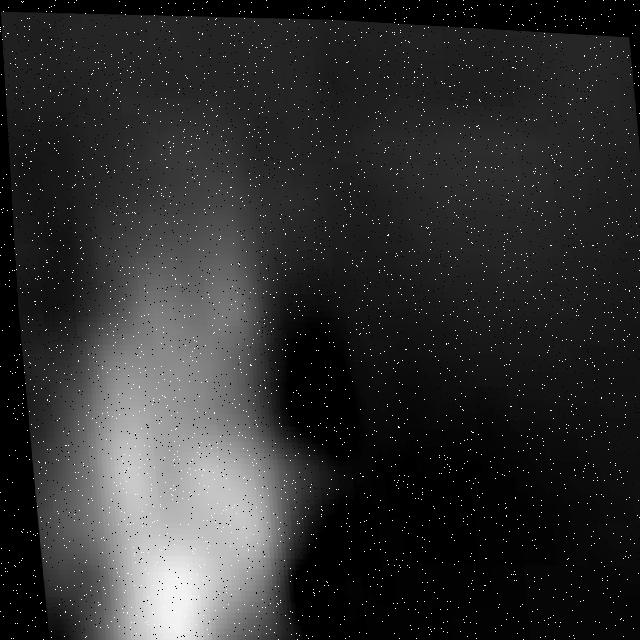person: (18, 146, 329, 640)
